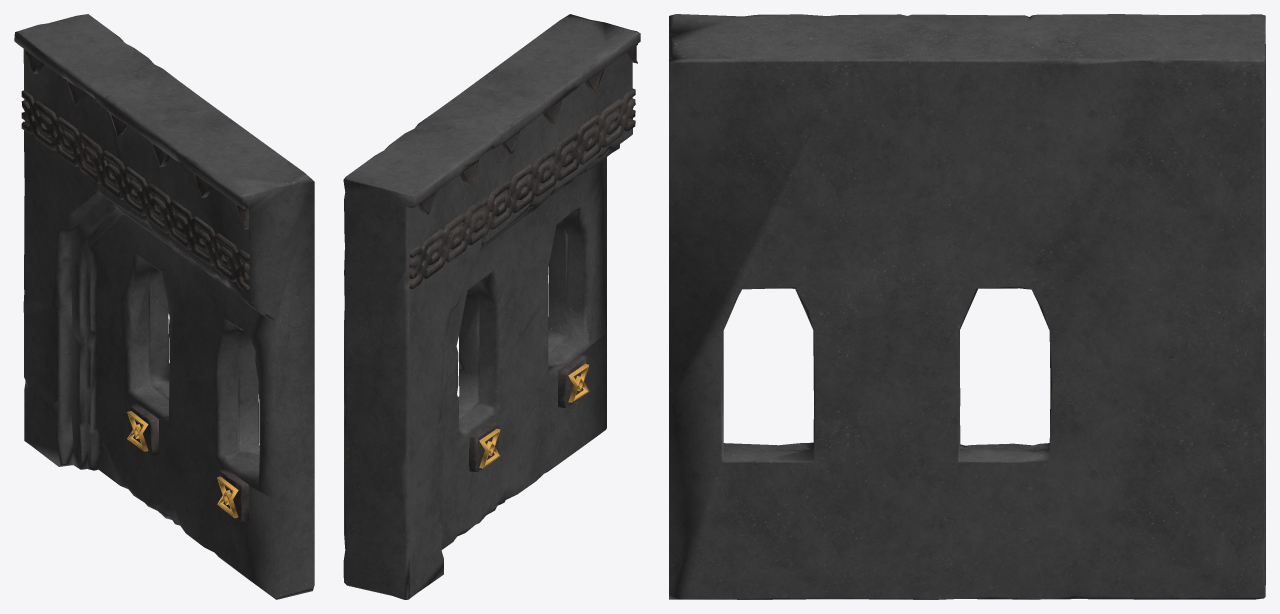
The model's file is SM_BuildingModule2.fbx.
The picture shows the model from 3 angles, left to right: view 1: azimuth 30°, elevation 25°; view 2: azimuth 150°, elevation 25°; view 3: azimuth 270°, elevation 25°; orthographic projection. The views are drawn at different scales.
Parts seen in each view (by area): view 1: SM_BuildingModule2_LOD0; view 2: SM_BuildingModule2_LOD0; view 3: SM_BuildingModule2_LOD0.
Boxes of the visible parts, box(x1,y1,x2,y2) form: SM_BuildingModule2_LOD0: box(14, 14, 314, 599); SM_BuildingModule2_LOD0: box(343, 14, 640, 599); SM_BuildingModule2_LOD0: box(669, 14, 1265, 599).
Bounding box in the file's own units: 56.03 × 300 × 300.
3 materials, 3 textured.
